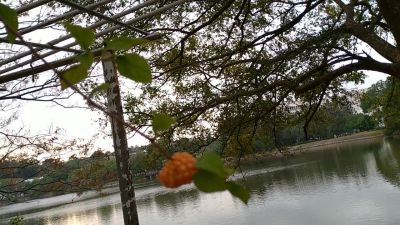eggs: (156, 149, 198, 193)
